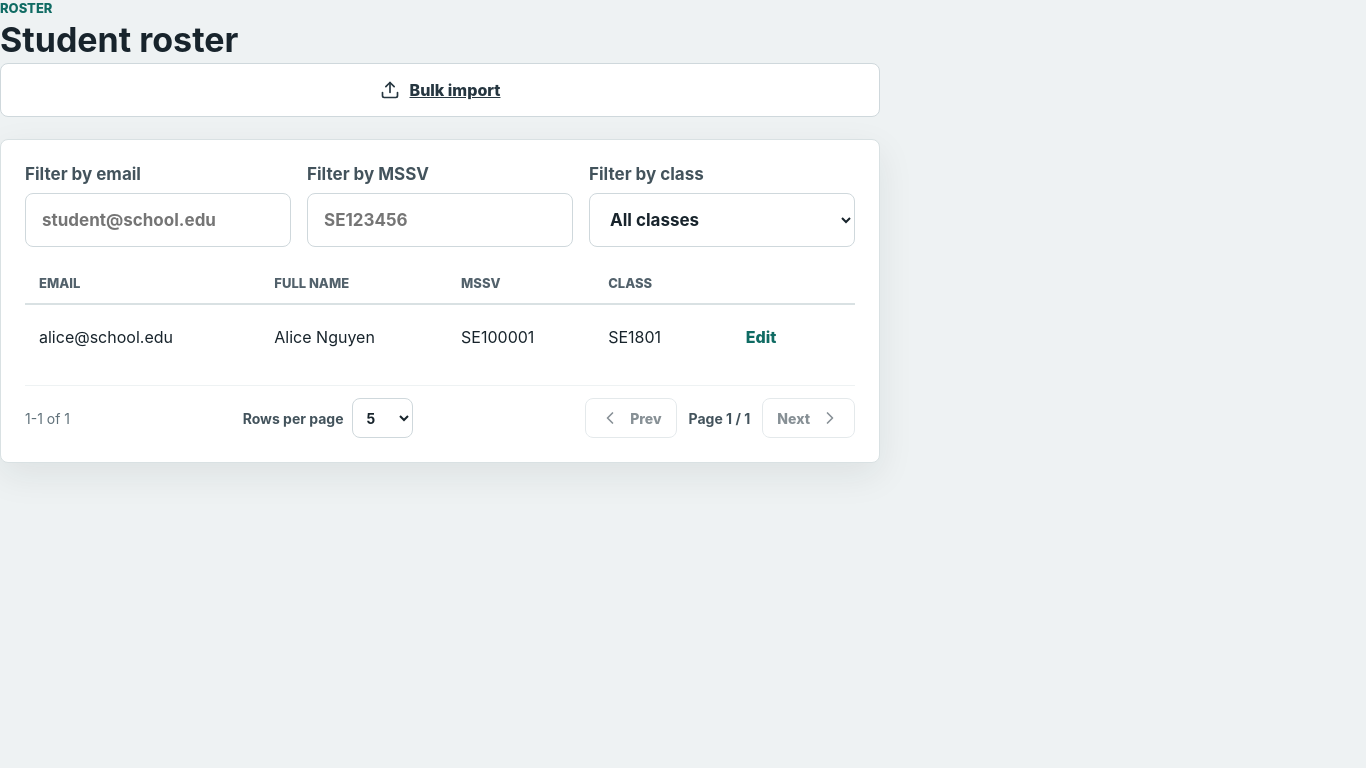
Scenario: RosterPage › shows the server-provided message on a 400 error
Expected: the text "alice@school.edu" is shown, [25,304,260,369]
Click the button "Edit".
click(761, 337)  # box [726,319,796,355]
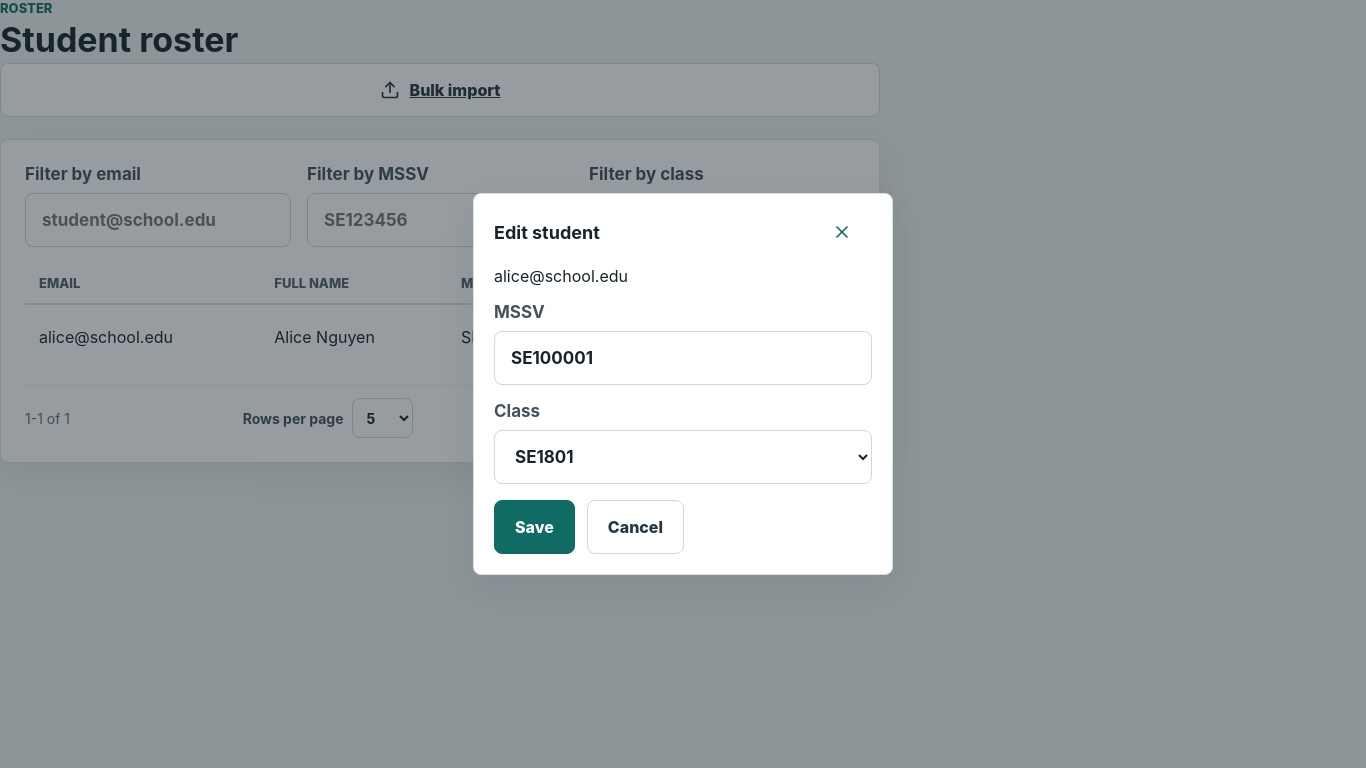
Click the button "Save".
click(534, 527)  # box [494,500,575,554]
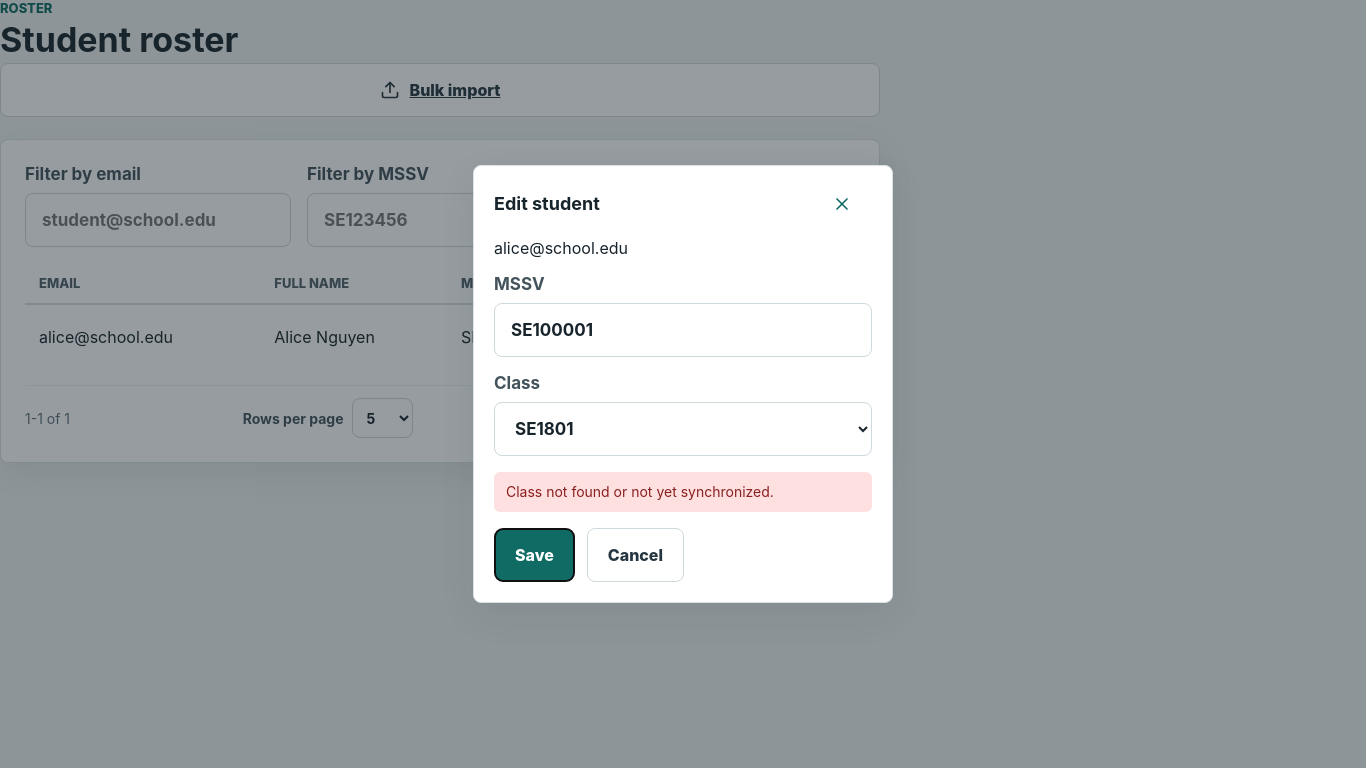
Expected: the text "Class not found or not yet synchronized." is shown, [494,472,872,512]
